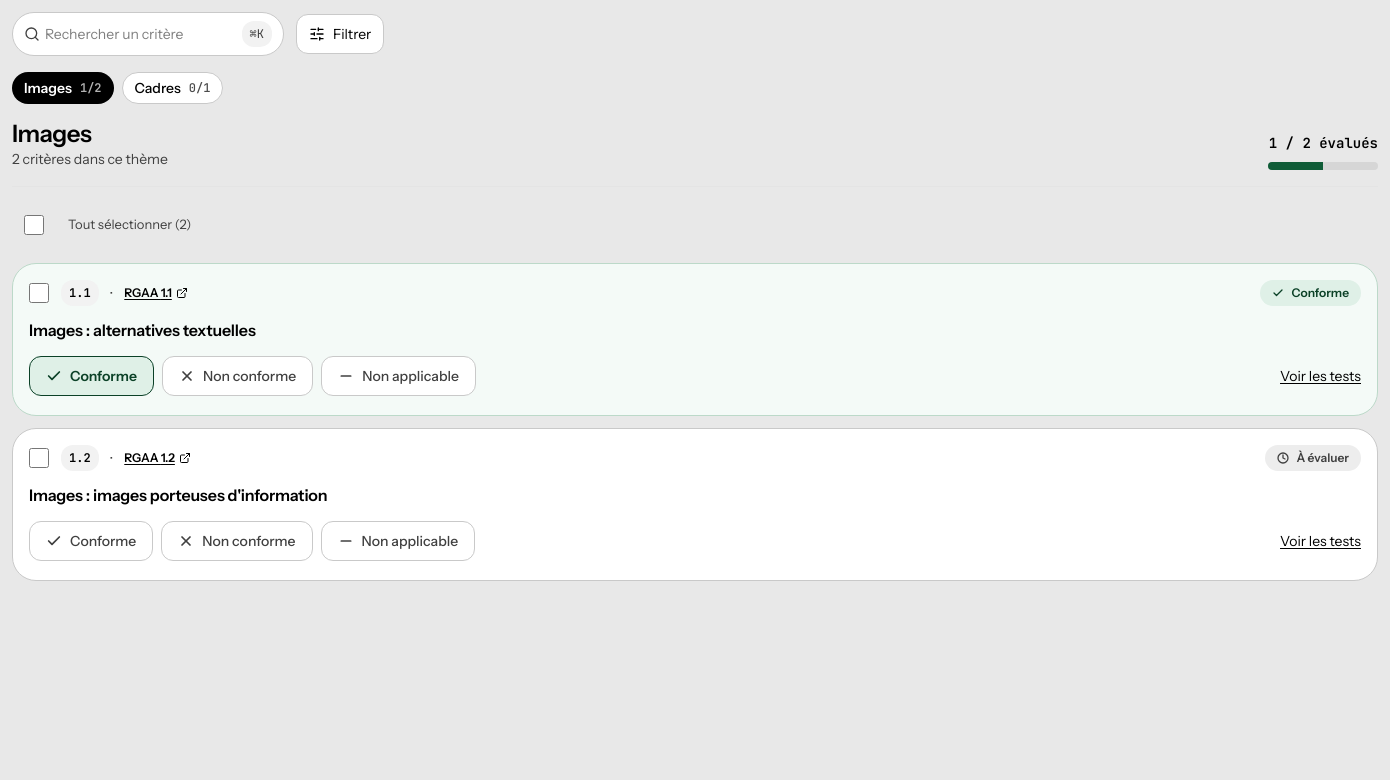
Test case: AuditScreen › sélectionne tous les critères au clic sur la case maîtresse
The image size is (1390, 780).
Click the checkbox named "Sélectionner les 2 critères affichés" at (34, 225), box [24, 215, 44, 235]
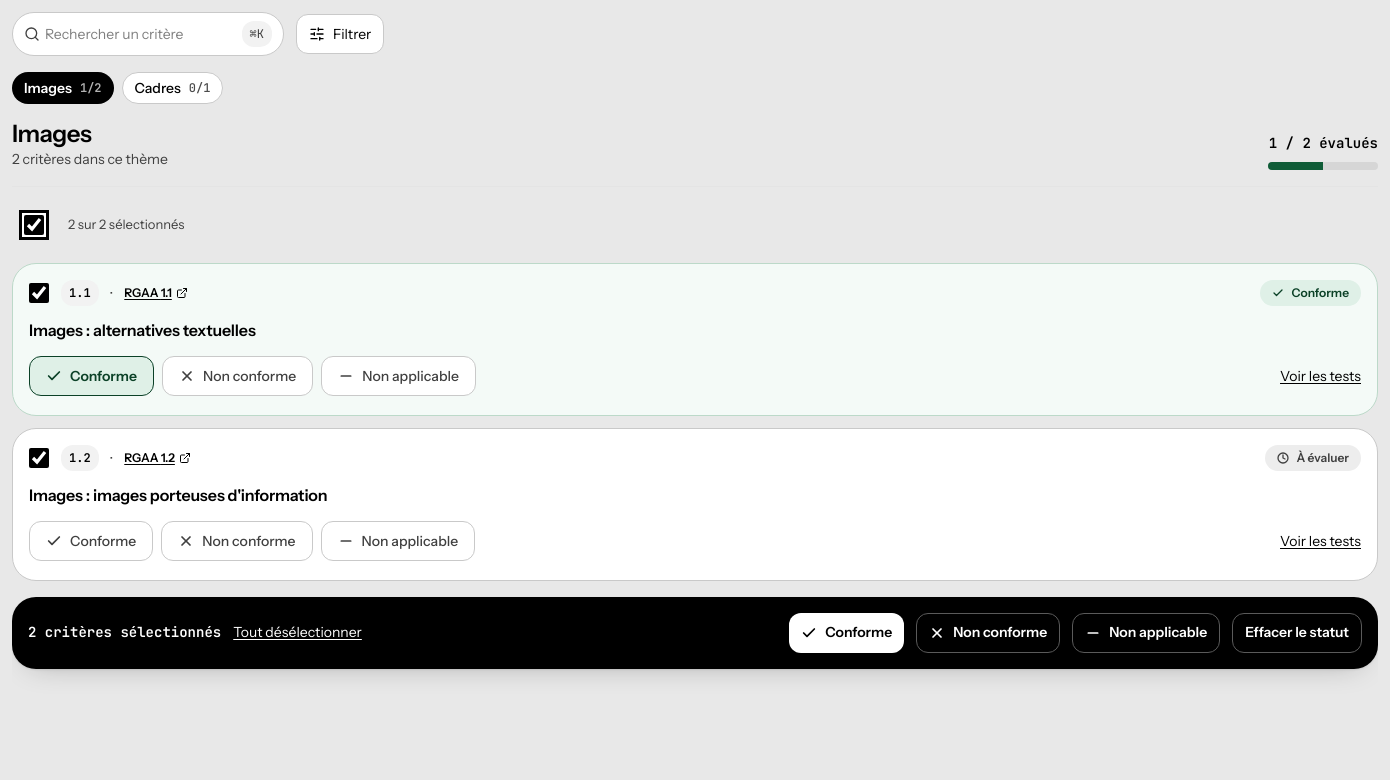
expect the text "2 critères sélectionnés" is shown: met, box [28, 622, 221, 643]
